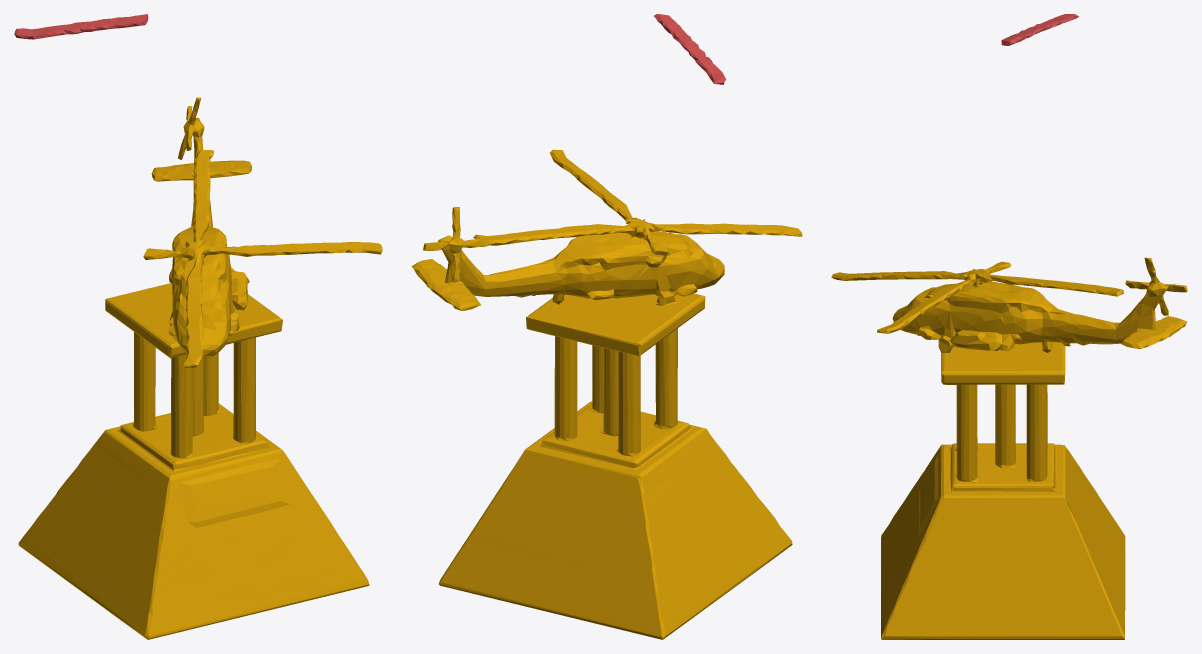
The model's file is fractured_22_2pcs_transformed.glb.
The picture shows the model from 3 angles, left to right: view 1: azimuth 30°, elevation 25°; view 2: azimuth 150°, elevation 25°; view 3: azimuth 270°, elevation 25°; orthographic projection. The views are drawn at different scales.
Parts seen in each view (by area): view 1: piece_0.obj, piece_1.obj; view 2: piece_0.obj, piece_1.obj; view 3: piece_0.obj, piece_1.obj.
Boxes of the visible parts, left/top/right/bottom form: piece_0.obj: left=18, top=97, right=382, bottom=639; piece_1.obj: left=14, top=14, right=148, bottom=39; piece_0.obj: left=411, top=149, right=802, bottom=639; piece_1.obj: left=654, top=14, right=726, bottom=84; piece_0.obj: left=831, top=257, right=1187, bottom=639; piece_1.obj: left=1001, top=14, right=1078, bottom=45.
Size of the model in its own units: 0.7297 by 1.43 by 0.8749.
